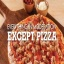pizza: (9, 14, 64, 64)
